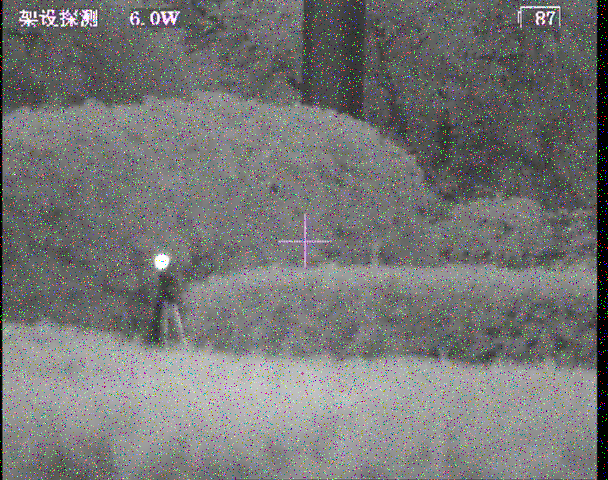my: (153, 253, 169, 270)
